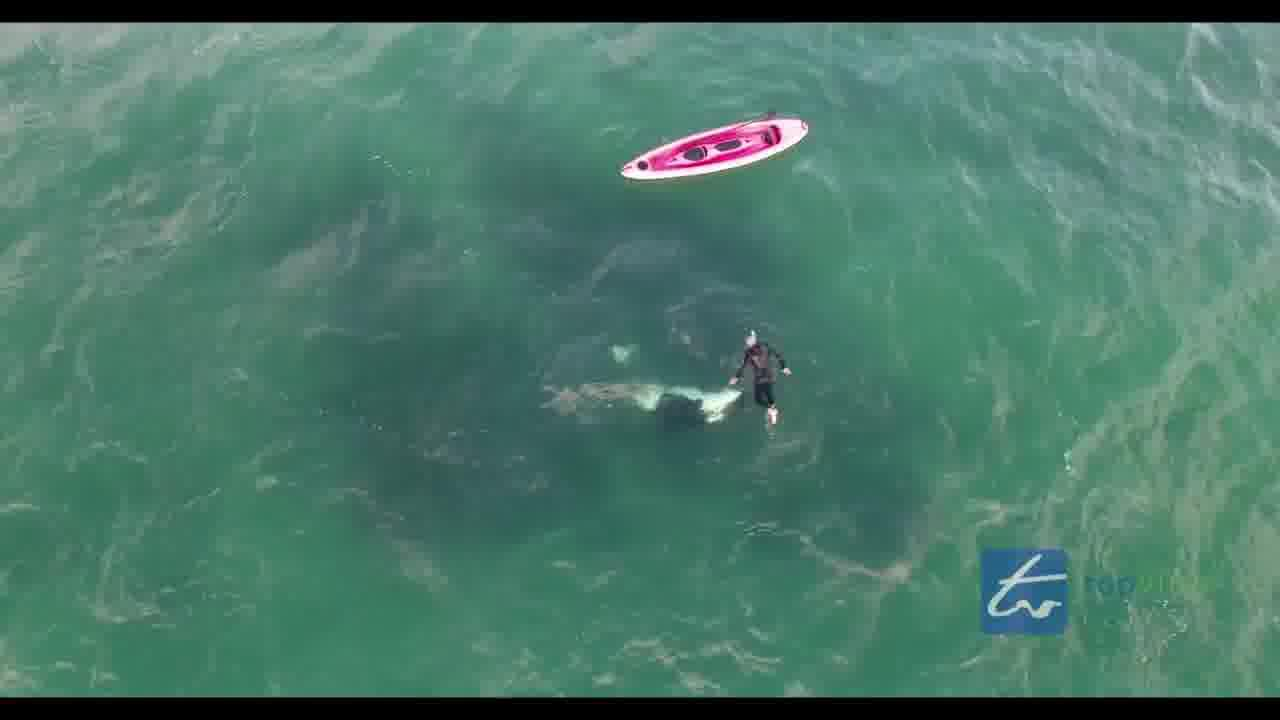human: (729, 319, 788, 437)
